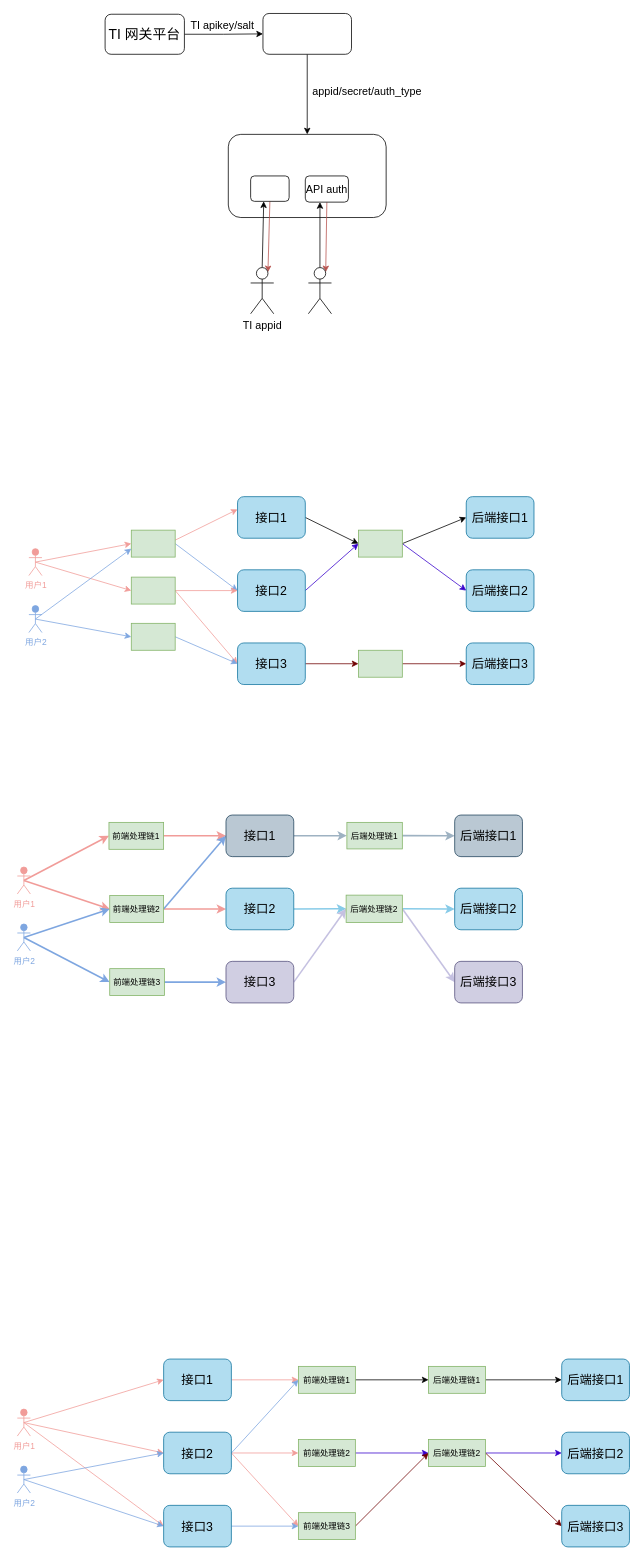
The diagram is 643 pixels wide and 1561 high, and some of its shapes have lost their labels. The box of each missing label's shape, as (x1, y1, x2, y2) in pixels:
API appid: (308, 267, 331, 314)
API 网关平台: (262, 13, 352, 54)
API 网关引擎: (228, 134, 386, 218)
TI auth: (250, 175, 289, 201)
后端鉴权1: (358, 529, 402, 557)
后端鉴权2: (358, 649, 402, 677)
鉴权1: (131, 529, 175, 557)
鉴权2: (131, 576, 175, 604)
鉴权3: (131, 623, 175, 650)
